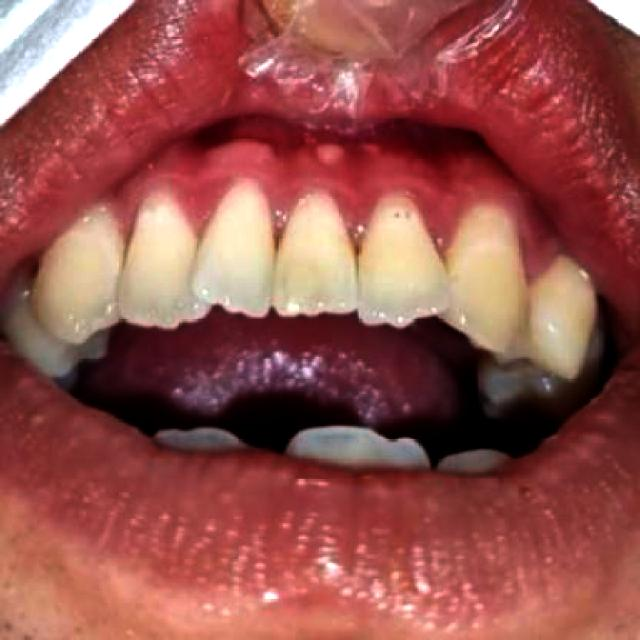Plaque: (372, 205, 415, 231)
